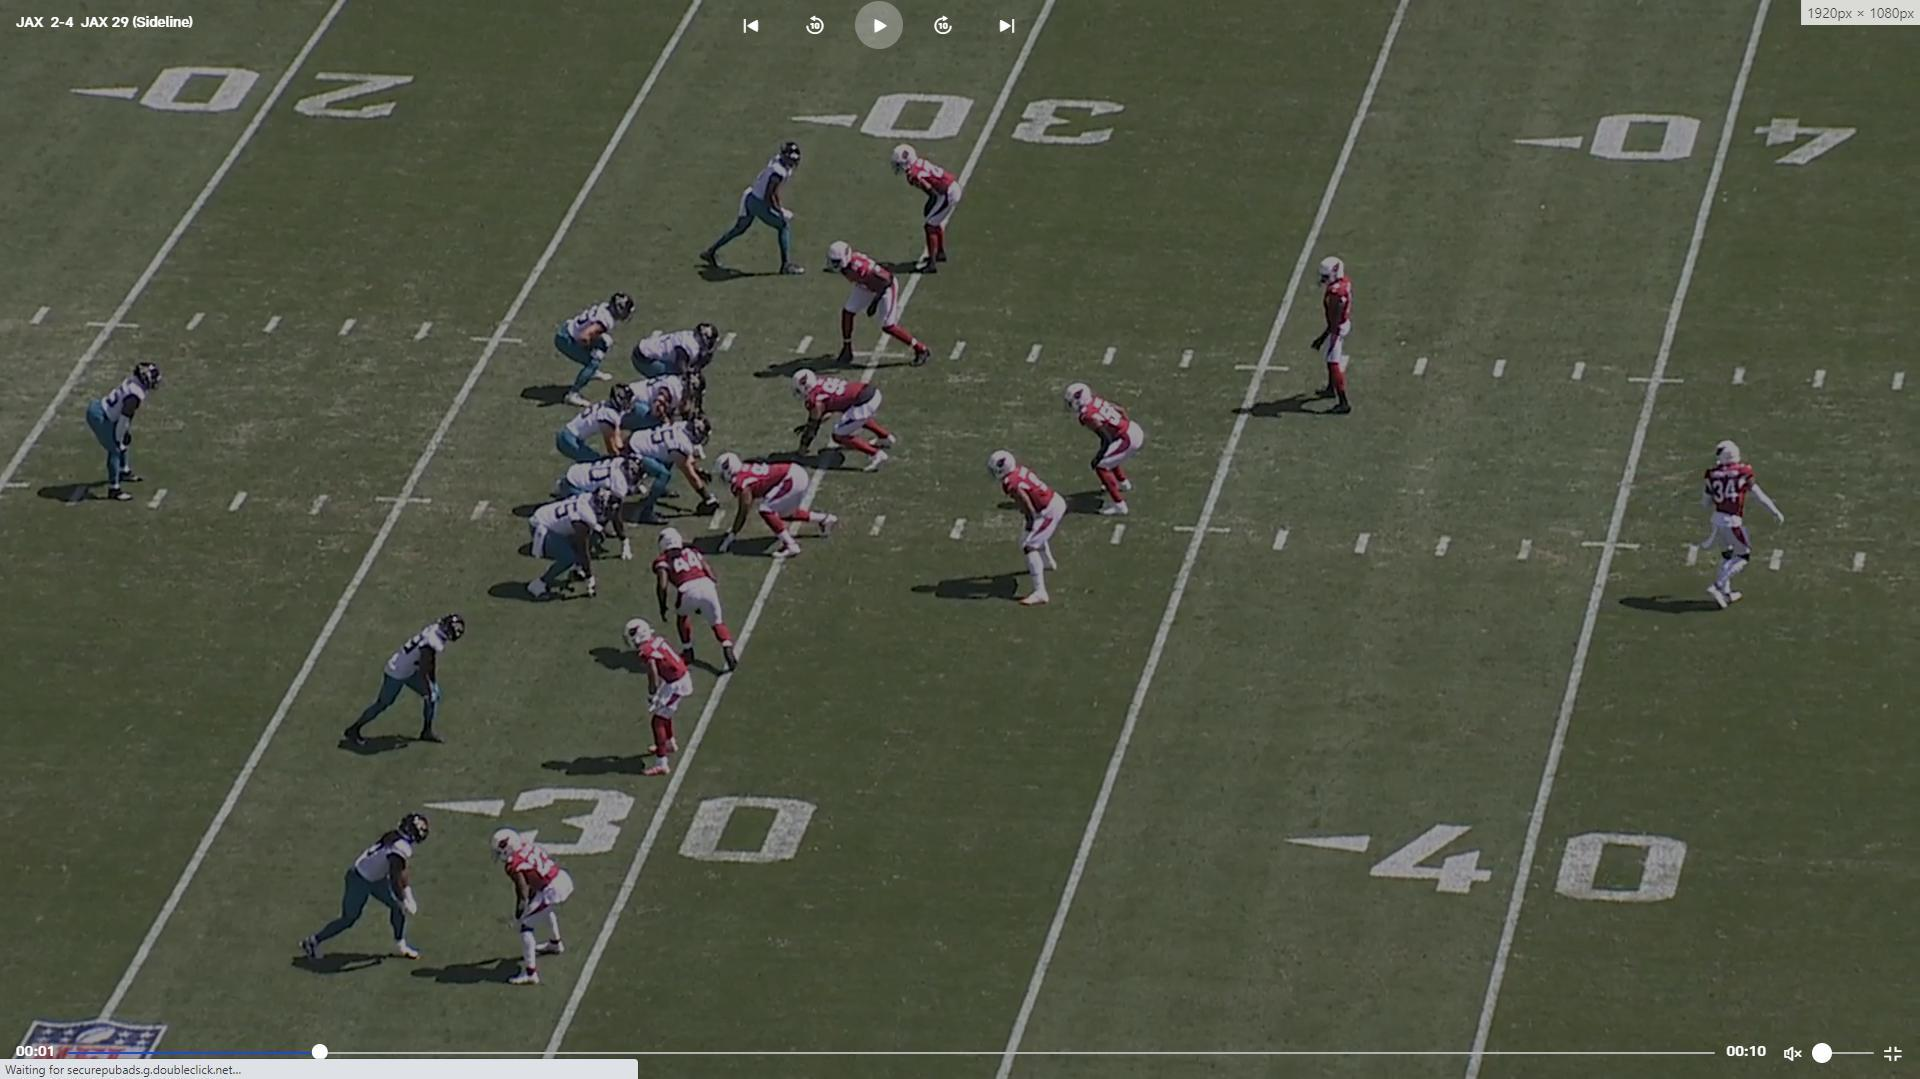player: (299, 814, 438, 974), (333, 612, 470, 760), (701, 137, 816, 283), (822, 236, 936, 369), (651, 526, 744, 686), (1688, 438, 1770, 613), (713, 452, 839, 560), (498, 819, 581, 982), (994, 449, 1068, 614), (793, 367, 901, 473), (625, 617, 693, 782), (529, 484, 622, 604), (1065, 383, 1140, 525), (88, 360, 165, 496), (623, 418, 718, 525), (556, 293, 642, 407), (890, 138, 961, 274), (560, 455, 645, 560), (1306, 255, 1359, 422), (623, 322, 721, 392), (553, 392, 627, 463), (617, 375, 698, 427)
